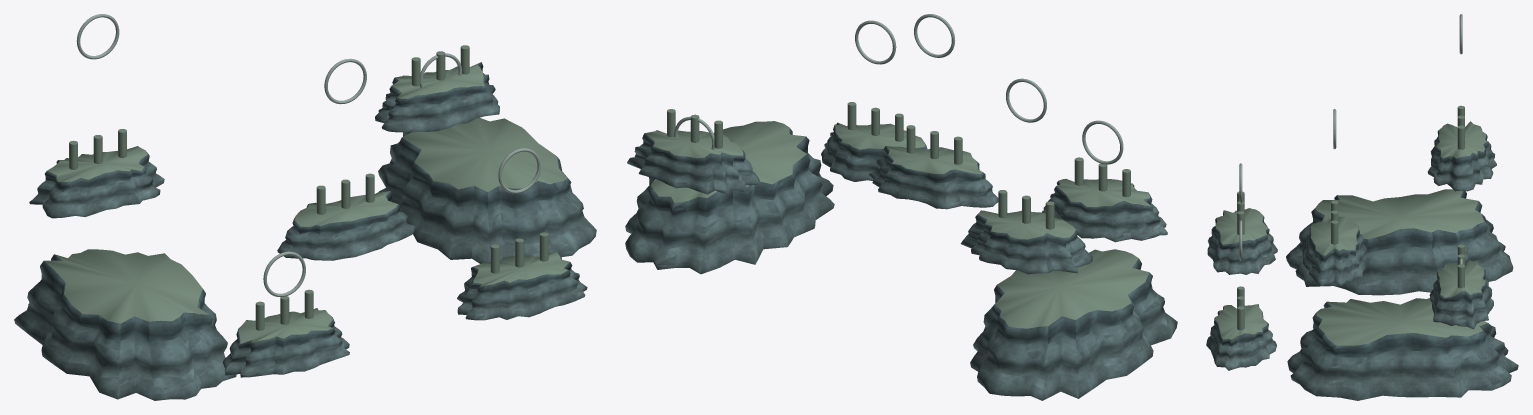
File: cloud-garden-v1.glb
The picture shows the model from 3 angles, left to right: view 1: azimuth 30°, elevation 25°; view 2: azimuth 150°, elevation 25°; view 3: azimuth 270°, elevation 25°; orthographic projection. The views are drawn at different scales.
Visible parts, largest first — view 1: cloud-garden mantle, cloud-garden strata 0, cloud-garden strata 1, cloud-garden strata 2, cloud-garden trim; view 2: cloud-garden mantle, cloud-garden strata 0, cloud-garden strata 1, cloud-garden strata 2, cloud-garden trim; view 3: cloud-garden mantle, cloud-garden strata 0, cloud-garden strata 1, cloud-garden strata 2, cloud-garden trim.
Boxes of the visible parts, left/top/right/bottom form: cloud-garden mantle: left=44, top=45, right=569, bottom=343; cloud-garden strata 0: left=14, top=81, right=596, bottom=400; cloud-garden strata 1: left=27, top=73, right=583, bottom=370; cloud-garden strata 2: left=40, top=62, right=572, bottom=351; cloud-garden trim: left=76, top=14, right=540, bottom=296; cloud-garden mantle: left=644, top=102, right=1150, bottom=328; cloud-garden strata 0: left=625, top=143, right=1177, bottom=400; cloud-garden strata 1: left=634, top=132, right=1164, bottom=372; cloud-garden strata 2: left=642, top=122, right=1153, bottom=344; cloud-garden trim: left=674, top=14, right=1123, bottom=164; cloud-garden mantle: left=1215, top=105, right=1487, bottom=345; cloud-garden strata 0: left=1206, top=146, right=1518, bottom=400; cloud-garden strata 1: left=1210, top=137, right=1505, bottom=376; cloud-garden strata 2: left=1214, top=127, right=1492, bottom=357; cloud-garden trim: left=1239, top=14, right=1462, bottom=264.
Size of the model in its own units: 103 by 59.52 by 66.64.
Materials: 5 (3 with a texture image).
